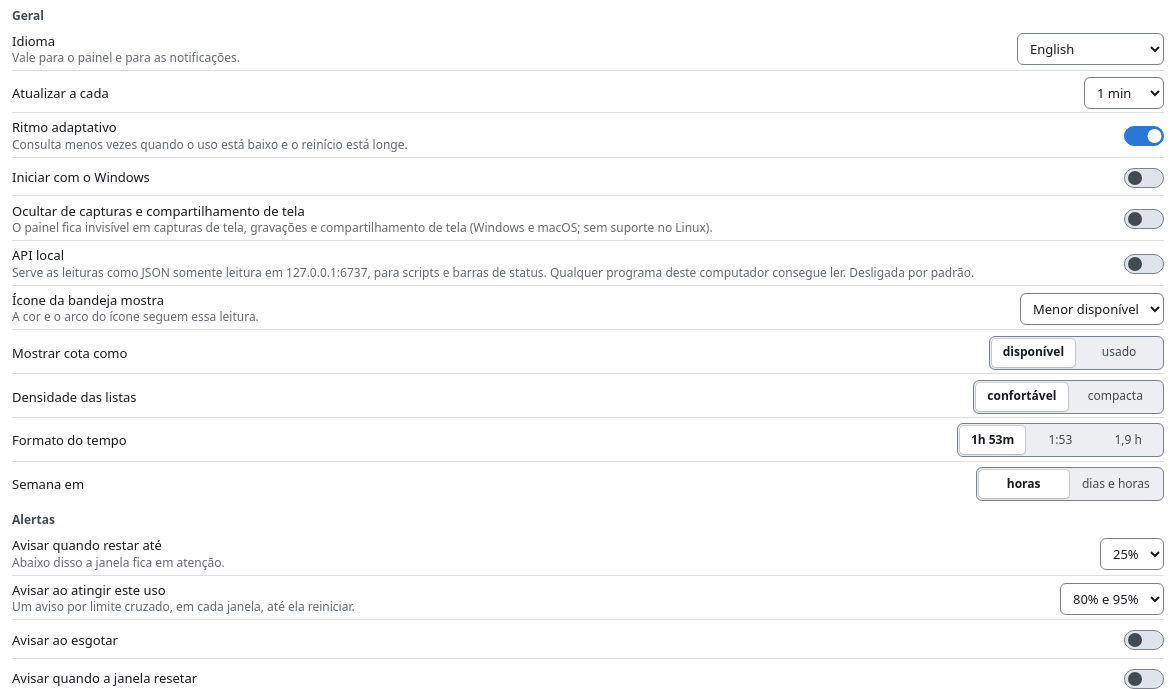
Test case: a refused save › leaves the control where it was and says why beside it
The image size is (1176, 689).
Select "5 min" in the dropdown labelled "Atualizar a cada" at [1124, 93], box [1084, 77, 1164, 109]
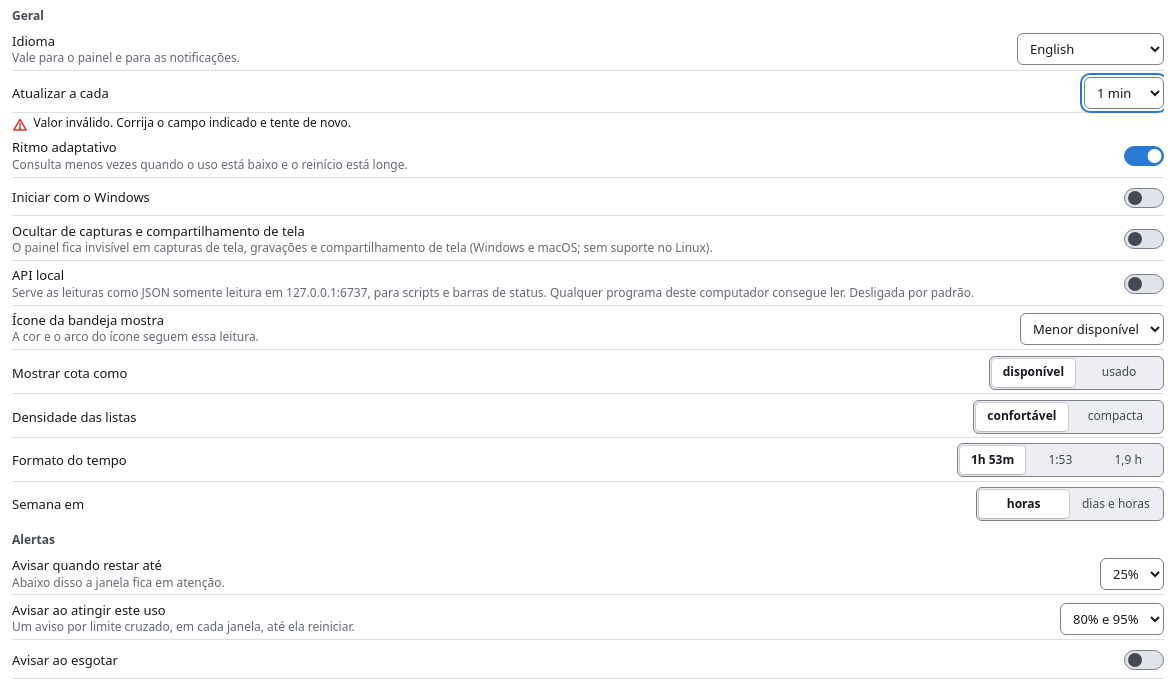
Check: the text "Valor inválido. Corrija o campo indicado e tente de novo." is shown, box [34, 115, 351, 132]
